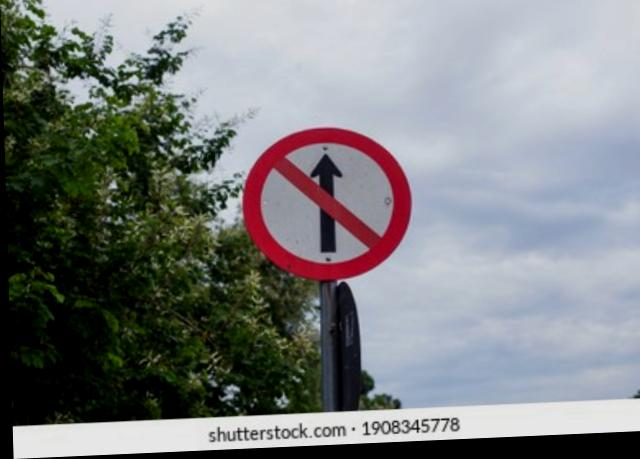not_go_straight: (241, 120, 417, 297)
